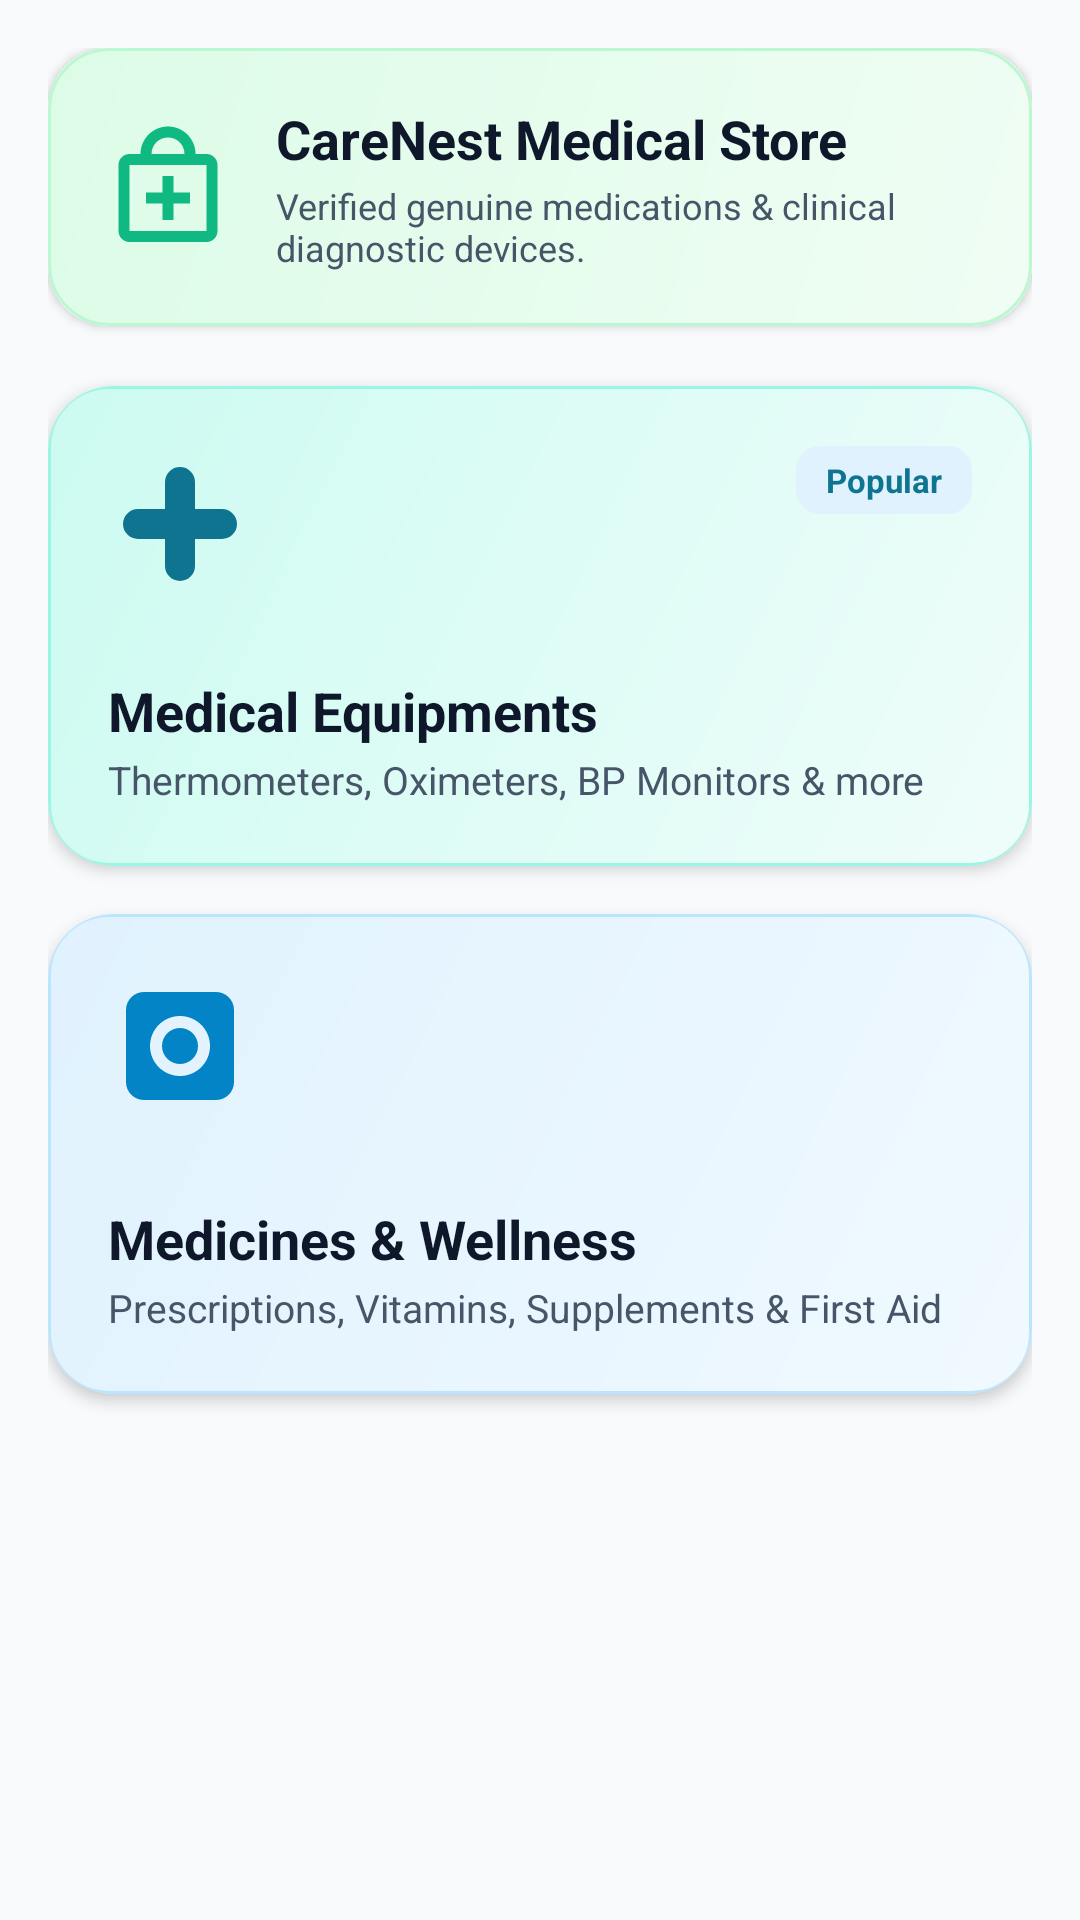

Icons on this 1080px x 1920px Android screen, each with its box as (x1, y1, x2, y2):
medical cross: (123, 467, 237, 581)
pharmacy shop: (118, 126, 218, 242)
